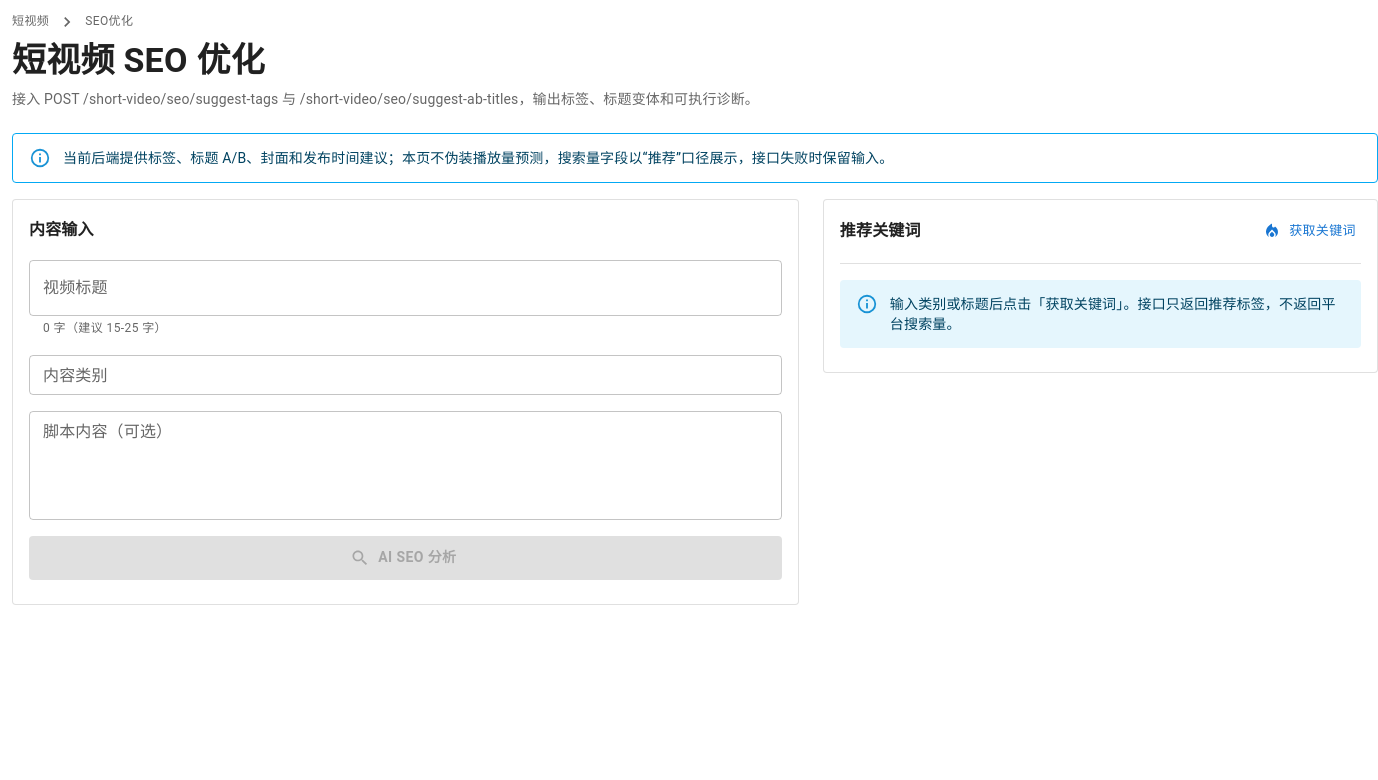
Test: SeoOptimizePage › uses real SEO endpoints and renders explicit recommendation diagnostics from wrapped data
Expected: the text "当前后端提供标签、标题 A/B" is shown, [63, 150, 893, 166]
Type "敏感肌如何修护屏障" into the field labelled "视频标题" at (405,288), box [29, 260, 782, 316]
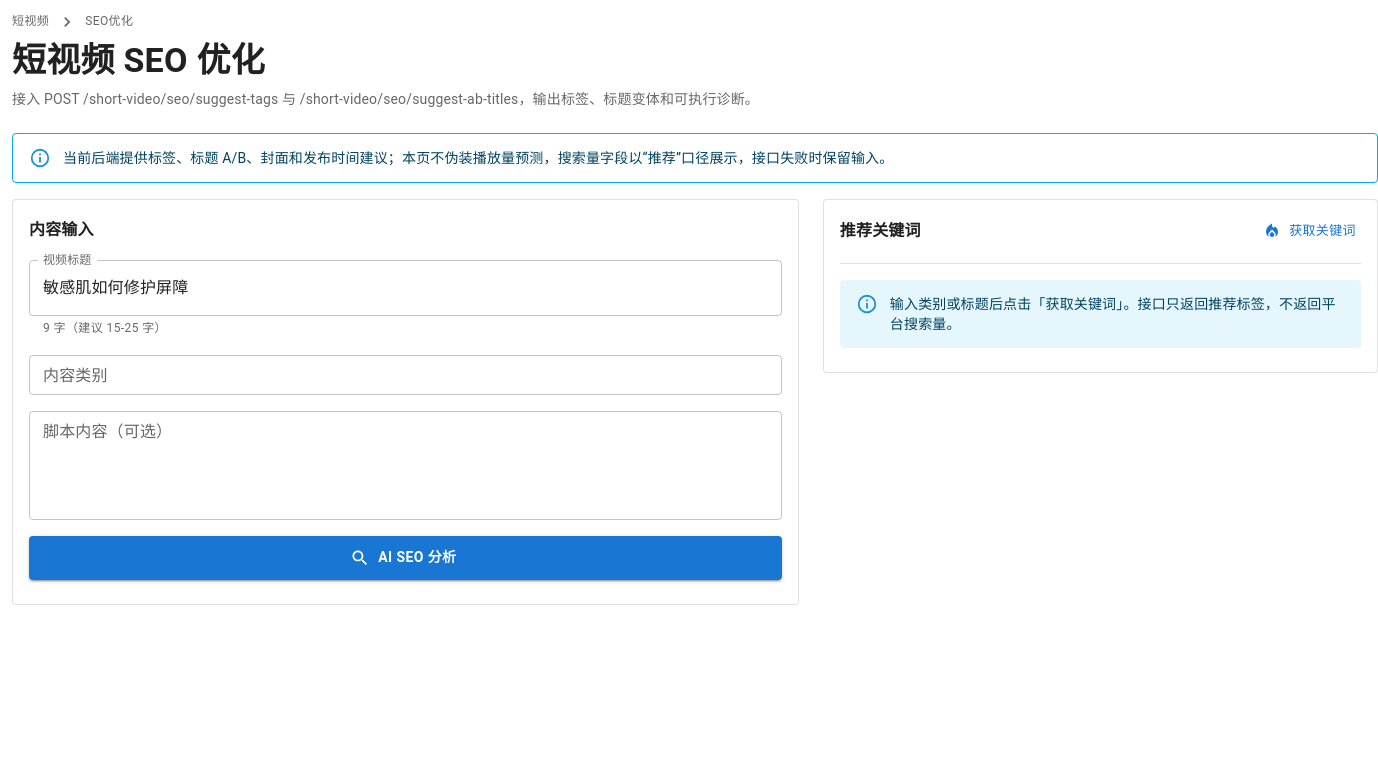
Type "护肤教程" into the field labelled "内容类别" at (405,375), box [29, 355, 782, 395]
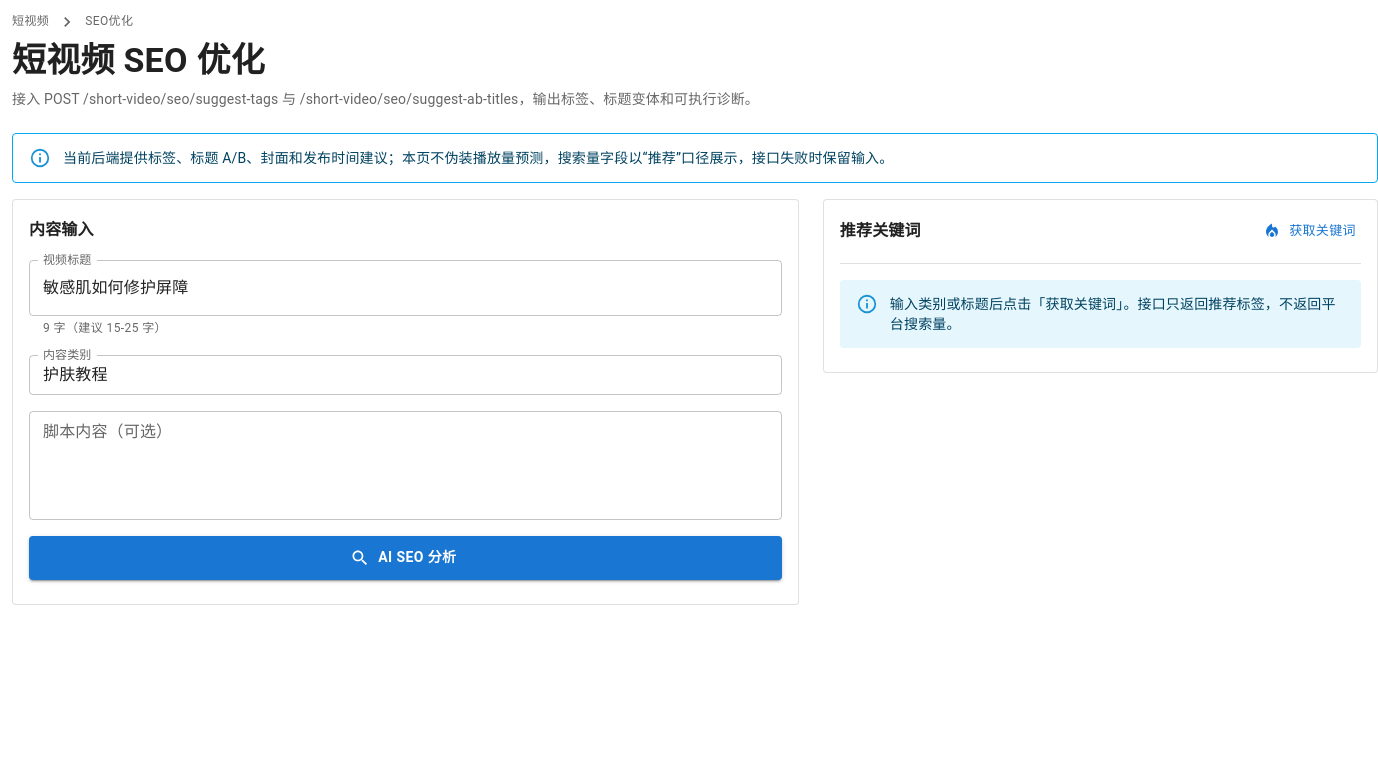
Click the button "AI SEO 分析" at (405,558), box [29, 536, 782, 580]
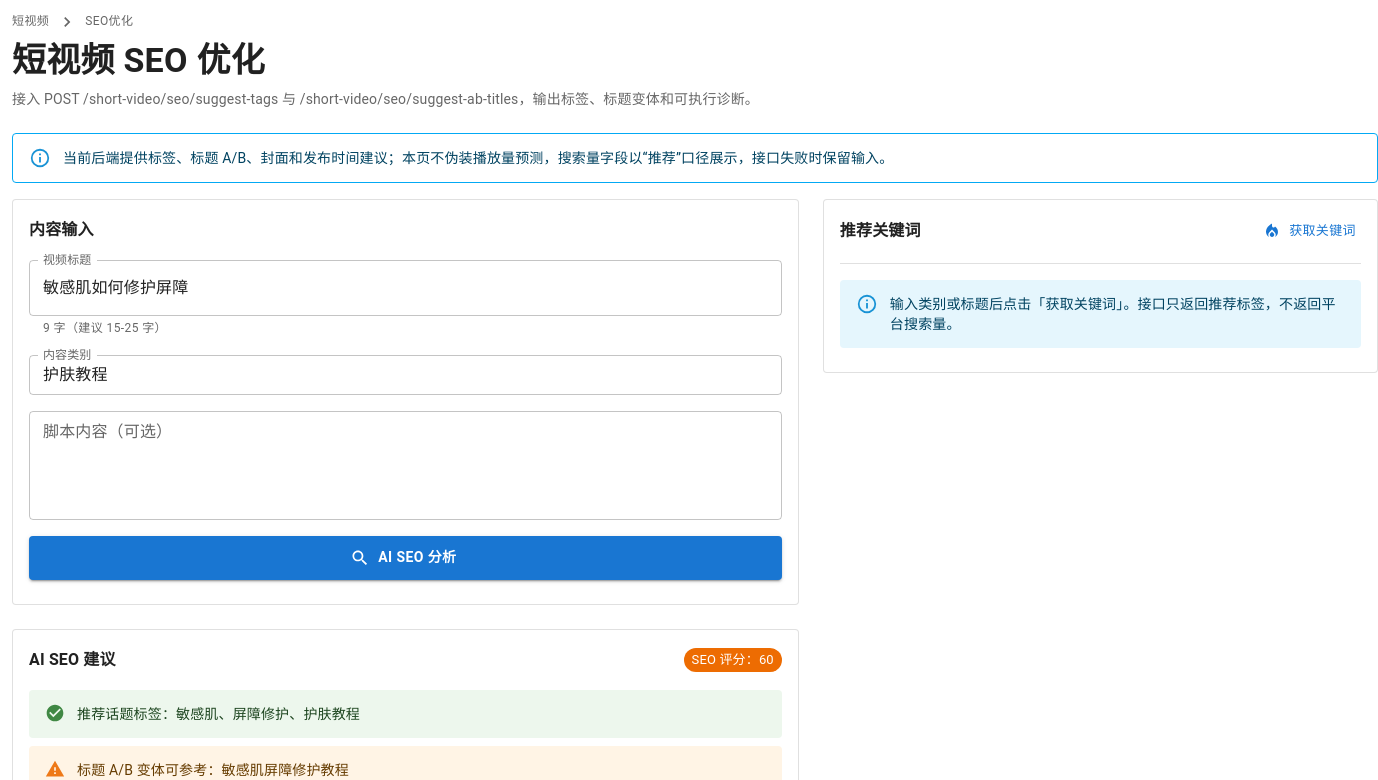
Expected: the text "推荐话题标签：敏感肌、屏障修护、护肤教程" is shown, [77, 706, 360, 722]
Click the button "获取关键词" at (1311,231), box [1260, 216, 1361, 247]
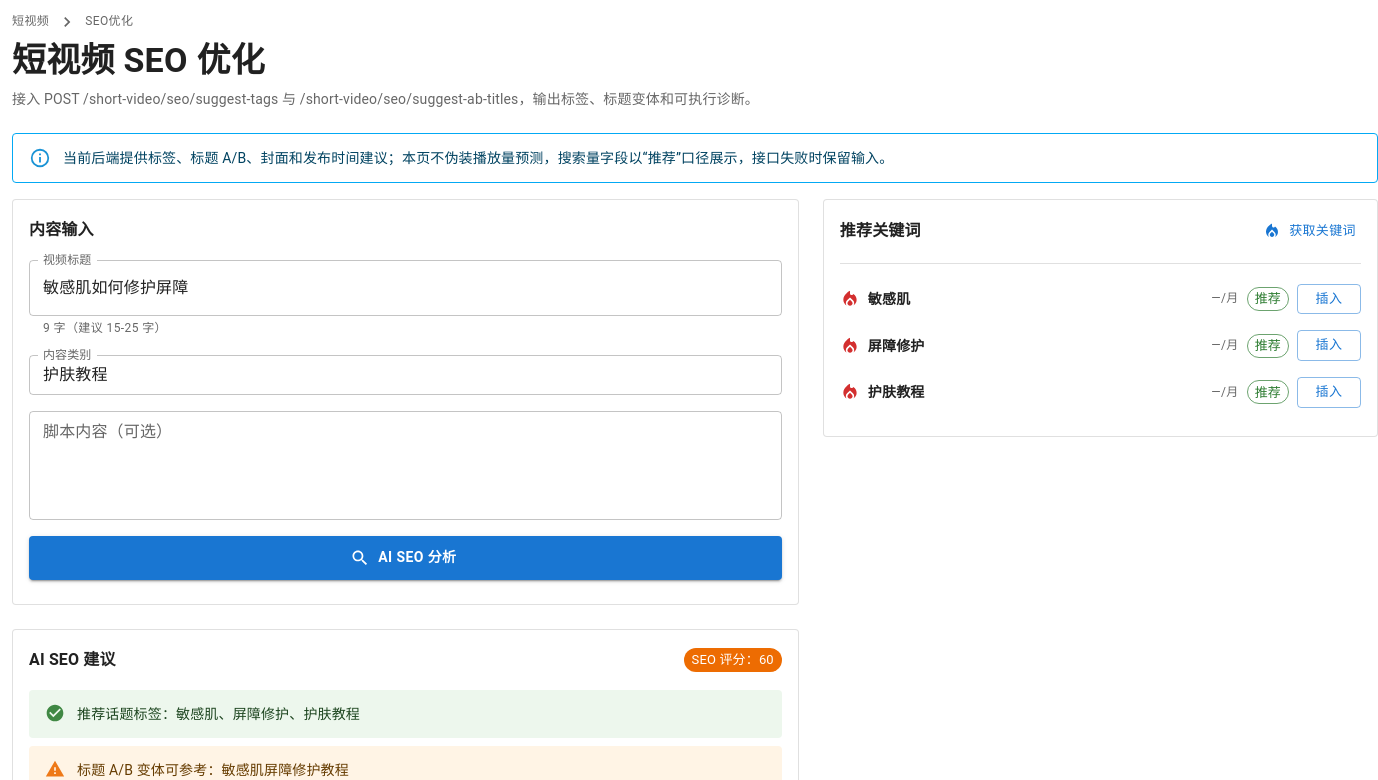
Expected: the text "屏障修护" is shown, [868, 336, 924, 356]
